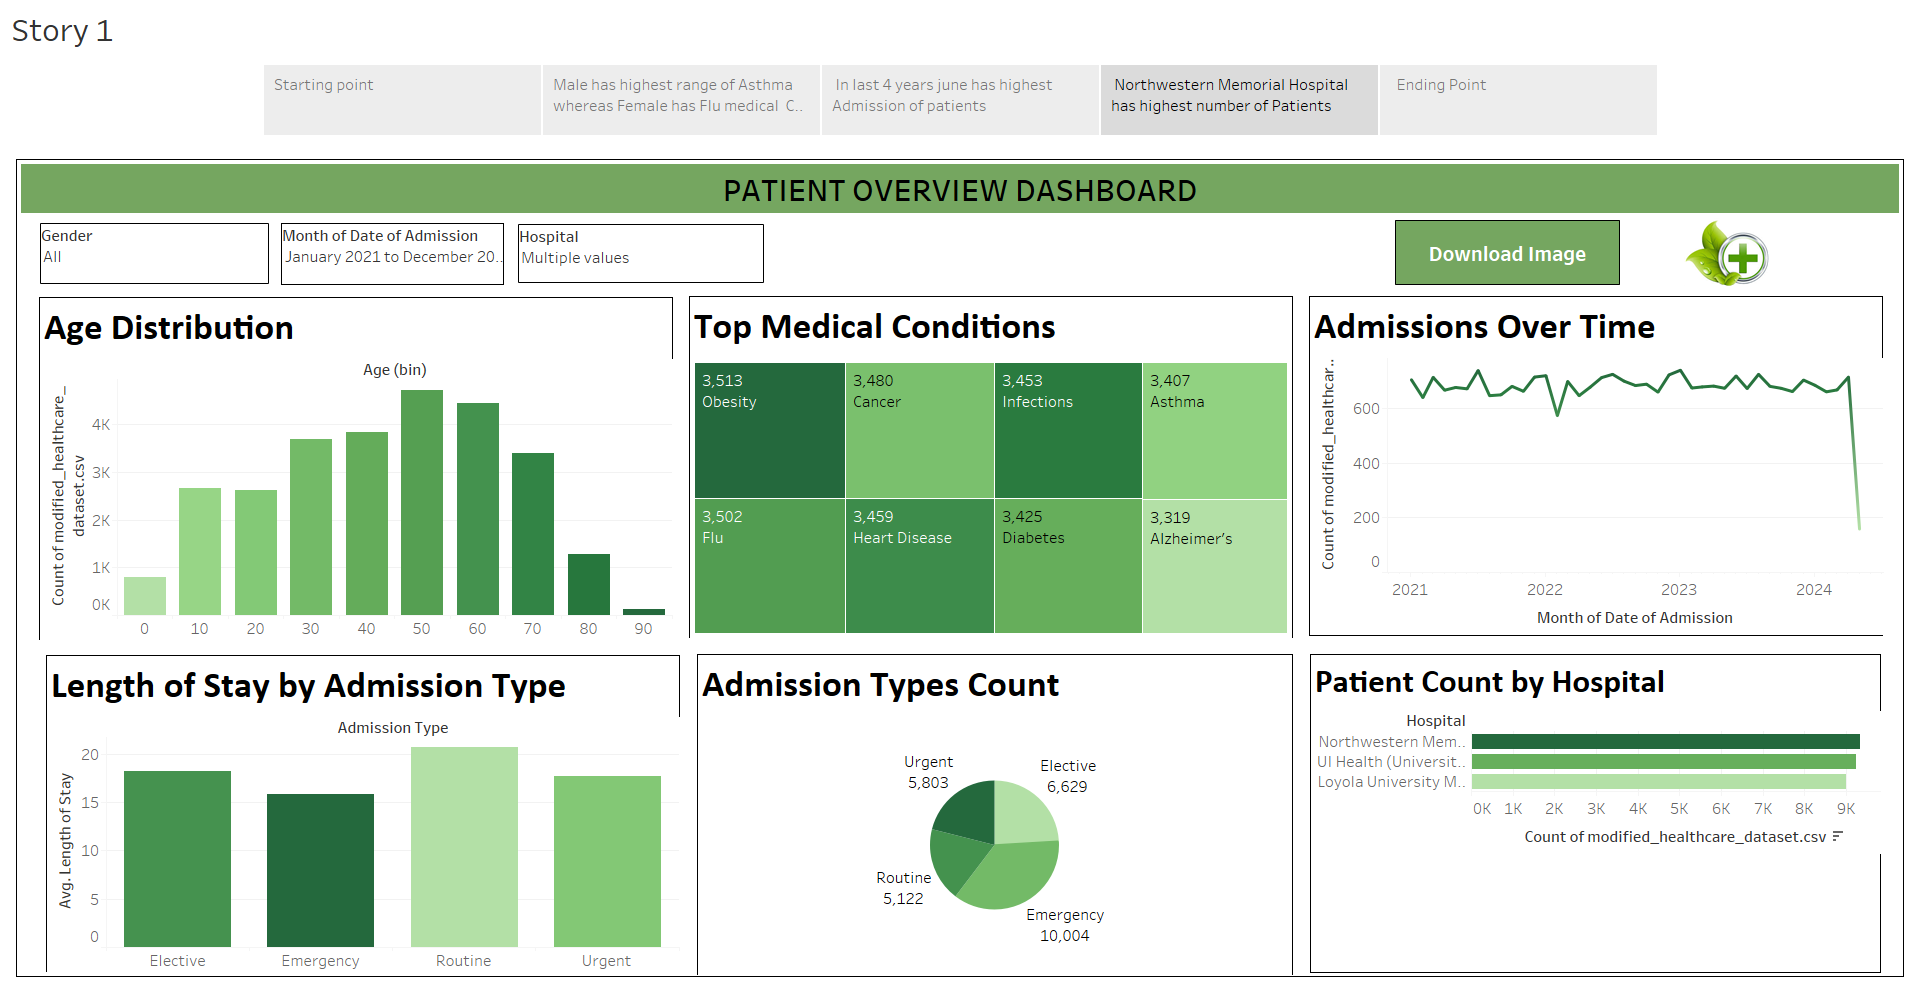

This screenshot's page, from the dashboard's own definition file:
{"tool":"tableau","page":{"name":"Dashboard 1","canvas":[1000,1000],"units":"permille","ordinal":0},"visuals":[{"type":"title","box":[4.7,9.1,990.6,57.4]},{"type":"image","param":"Image/health care.jpg","box":[825,79.9,155.1,82.4]},{"type":"dashboard-object","box":[728.4,82.4,118.3,78.7]},{"type":"filter","title":"Sheet 2","param":"[federated.1vwjf32122c6xp197zx8q0715ybu].[none:Gender:nk]","box":[16.8,86.1,120.2,73.7]},{"type":"filter","title":"Sheet 6","param":"[federated.1vwjf32122c6xp197zx8q0715ybu].[tmn:Date of Admission:qk]","box":[143.5,86.1,117.2,74.9]},{"type":"filter","title":"Sheet 5","param":"[federated.1vwjf32122c6xp197zx8q0715ybu].[none:Hospital:nk]","box":[267.9,87.4,129.2,71.2]},{"type":"worksheet","title":"Sheet 3","mark":"Square","box":[357.9,173.5,316.8,410.7]},{"type":"worksheet","title":"Sheet 6","mark":"Automatic","rows":["modified_healthcare_dataset.csv_CF0080983AFB4ABCB07073D8DDD8"],"cols":["Date of Admission"],"box":[683.2,173.5,301.8,408.2]},{"type":"worksheet","title":"Sheet 2","mark":"Automatic","rows":["modified_healthcare_dataset.csv_CF0080983AFB4ABCB07073D8DDD8"],"cols":["Age (bin)"],"box":[16.3,174.8,333.1,412]},{"type":"worksheet","title":"Sheet 7","mark":"Pie","box":[362.1,603,312.6,384.5]},{"type":"worksheet","title":"Sheet 5","mark":"Automatic","rows":["Hospital"],"cols":["modified_healthcare_dataset.csv_CF0080983AFB4ABCB07073D8DDD8"],"box":[683.8,603,299.9,382]},{"type":"worksheet","title":"Sheet 4","mark":"Automatic","rows":["Length of Stay"],"cols":["Admission Type"],"box":[19.9,604.2,333.1,380.8]}]}

Visuals, with their boxes on the dashboard's canvas, which has no fixed pixel size, in thousandths of its width and height (x1, y1, x2, y2). These are canvas units, not pixel positions in the 1920x993 screenshot, which may show the page scaled, cropped or inside an application window:
title: detection(5, 9, 995, 66)
image: detection(825, 80, 980, 162)
dashboard-object: detection(728, 82, 847, 161)
"Sheet 2" filter: detection(17, 86, 137, 160)
"Sheet 6" filter: detection(144, 86, 261, 161)
"Sheet 5" filter: detection(268, 87, 397, 159)
"Sheet 3" worksheet (Square marks): detection(358, 174, 675, 584)
"Sheet 6" worksheet: detection(683, 174, 985, 582)
"Sheet 2" worksheet: detection(16, 175, 349, 587)
"Sheet 7" worksheet (Pie marks): detection(362, 603, 675, 988)
"Sheet 5" worksheet: detection(684, 603, 984, 985)
"Sheet 4" worksheet: detection(20, 604, 353, 985)
